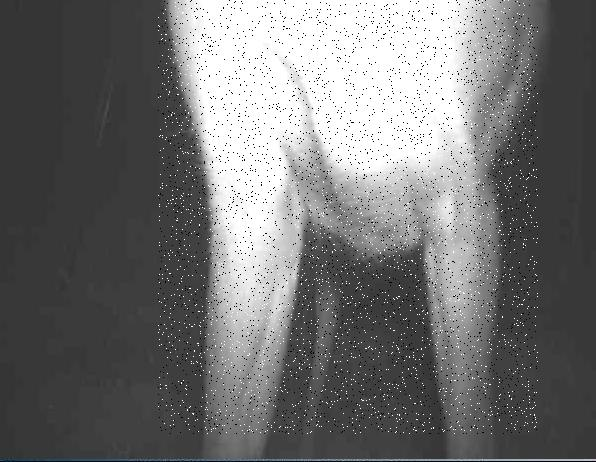Deer: (158, 0, 538, 434)
